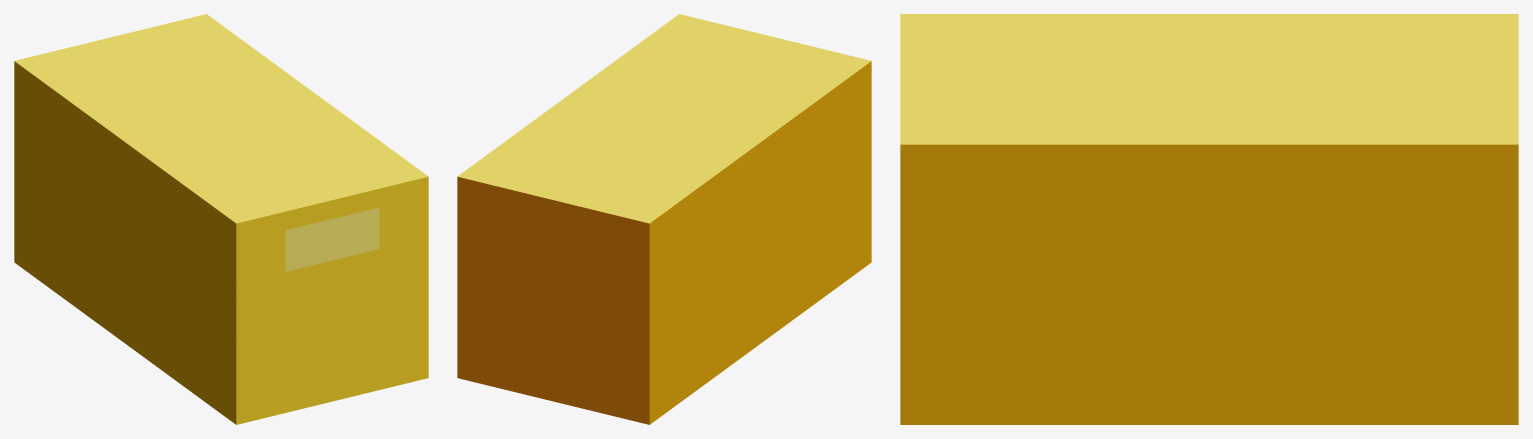
The model's file is D_FBX_09_Mover.fbx.
3 renders of one model, left to right at view 1: azimuth 30°, elevation 25°; view 2: azimuth 150°, elevation 25°; view 3: azimuth 270°, elevation 25°, orthographic. The views are drawn at different scales.
Visible parts, largest first — view 1: D_FBX_09_Mover; view 2: D_FBX_09_Mover; view 3: D_FBX_09_Mover.
Part boxes in pixels (<box>): D_FBX_09_Mover: <box>14,14,428,424</box>; D_FBX_09_Mover: <box>457,14,871,424</box>; D_FBX_09_Mover: <box>900,14,1518,424</box>.
Bounding box in the file's own units: 80 × 80 × 160.
